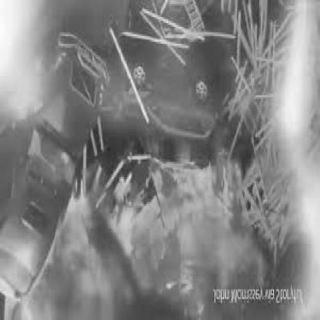Fire: (44, 166, 264, 310)
Smoke: (284, 49, 310, 187)
